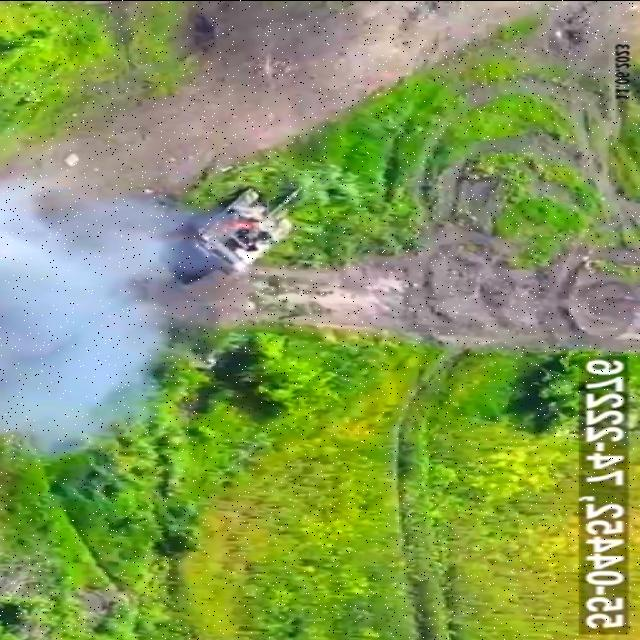TANK: (189, 180, 315, 279)
